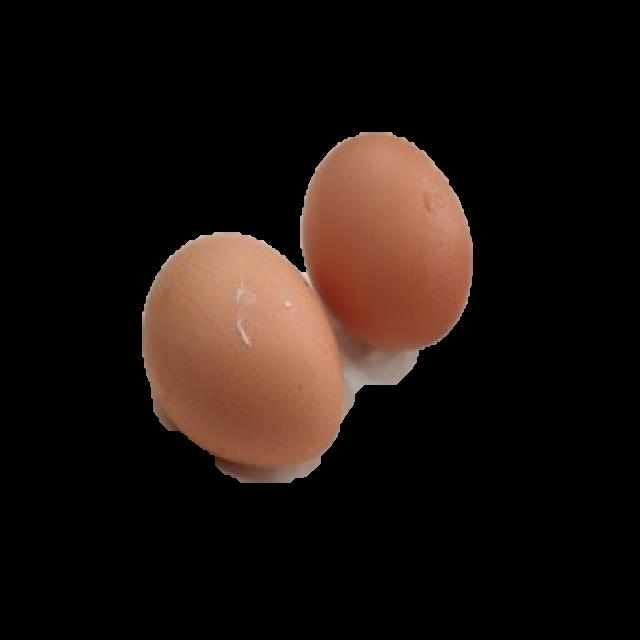eggs: (296, 133, 477, 356), (154, 242, 331, 451)
